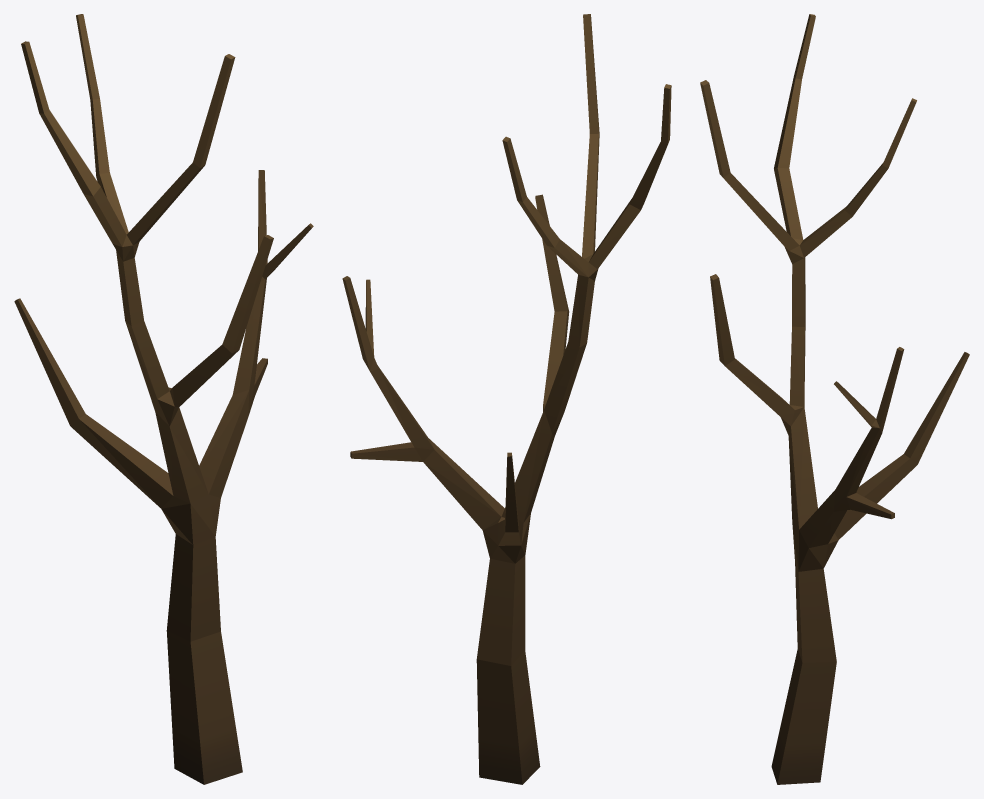
Rendered from Tree_05.fbx.
The picture shows the model from 3 angles, left to right: view 1: azimuth 30°, elevation 25°; view 2: azimuth 150°, elevation 25°; view 3: azimuth 270°, elevation 25°; orthographic projection. The views are drawn at different scales.
Visible parts, largest first — view 1: Tree_05; view 2: Tree_05; view 3: Tree_05.
Part boxes in pixels (x1,y1,x2,y2): Tree_05: (14,14,313,784); Tree_05: (342,14,671,784); Tree_05: (700,14,969,784).
Size of the model in its own units: 0.7686 by 1.84 by 0.659.
